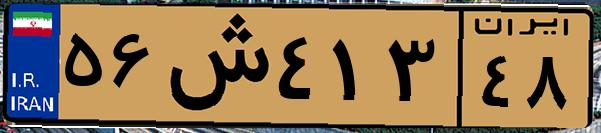1: (330, 28, 385, 110)
3: (385, 28, 445, 110)
4: (270, 28, 330, 110), (475, 38, 525, 113)
5: (57, 26, 110, 100)
6: (110, 28, 158, 98)
8: (525, 38, 570, 115)
ش: (158, 12, 270, 120)
